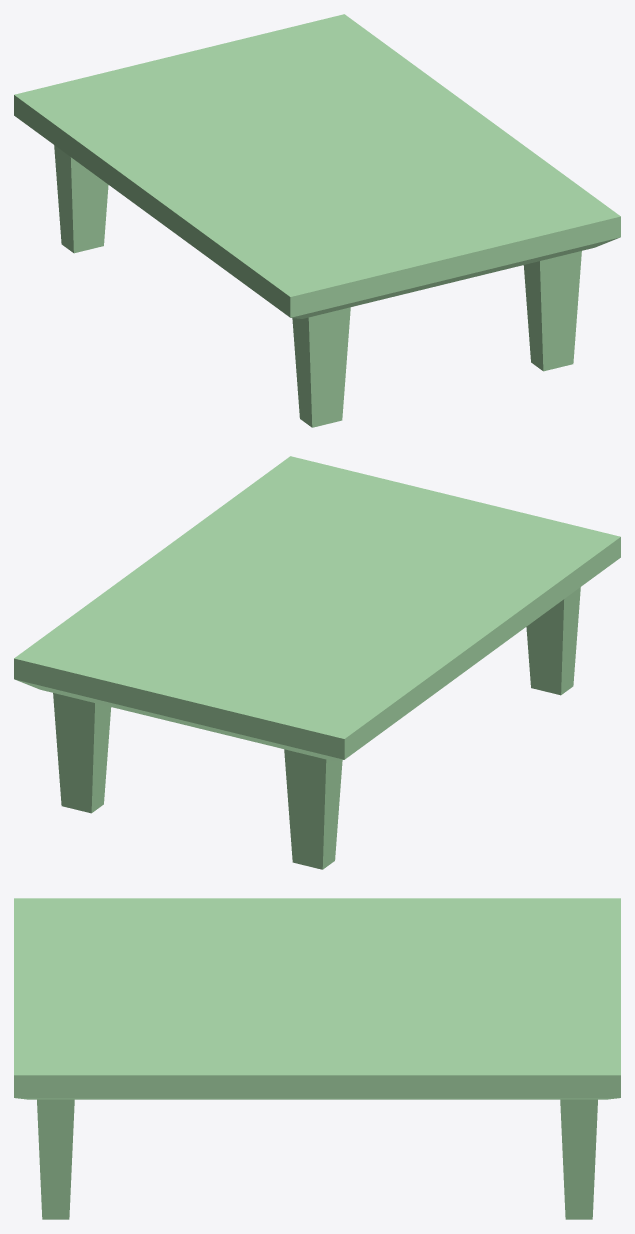
File: Coffee_Table.fbx
3 renders of one model, top to bottom at view 1: azimuth 30°, elevation 25°; view 2: azimuth 150°, elevation 25°; view 3: azimuth 270°, elevation 25°, orthographic. The views are drawn at different scales.
Visible parts, largest first — view 1: Coffee Table; view 2: Coffee Table; view 3: Coffee Table.
Boxes of the visible parts, x1,y1,x2,y2 form: Coffee Table: [14, 14, 620, 427]; Coffee Table: [14, 456, 620, 869]; Coffee Table: [14, 898, 620, 1219].
Bounding box in the file's own units: 2006 × 862 × 2906.
